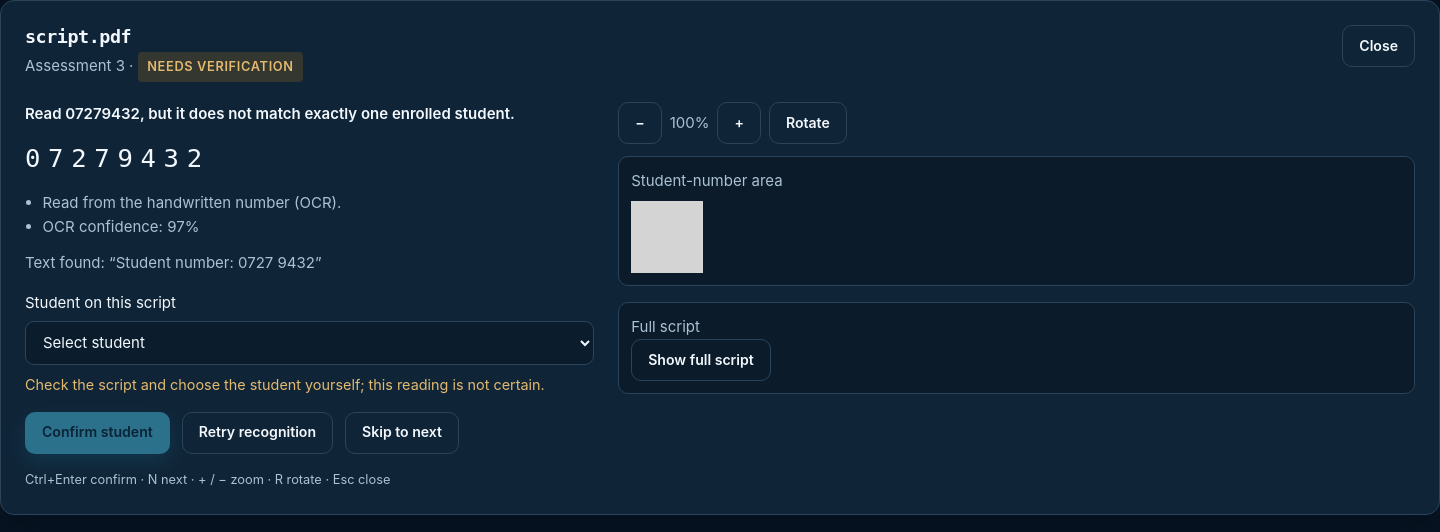
SubmissionReviewPanel › makes the lecturer choose when the reading is uncertain
Expected: the button with test id "confirm" is disabled, [25,412,170,454]
Select "35226455 — Sipho Test" in the dropdown with test id "student-select": (310, 343) [25,321,594,365]
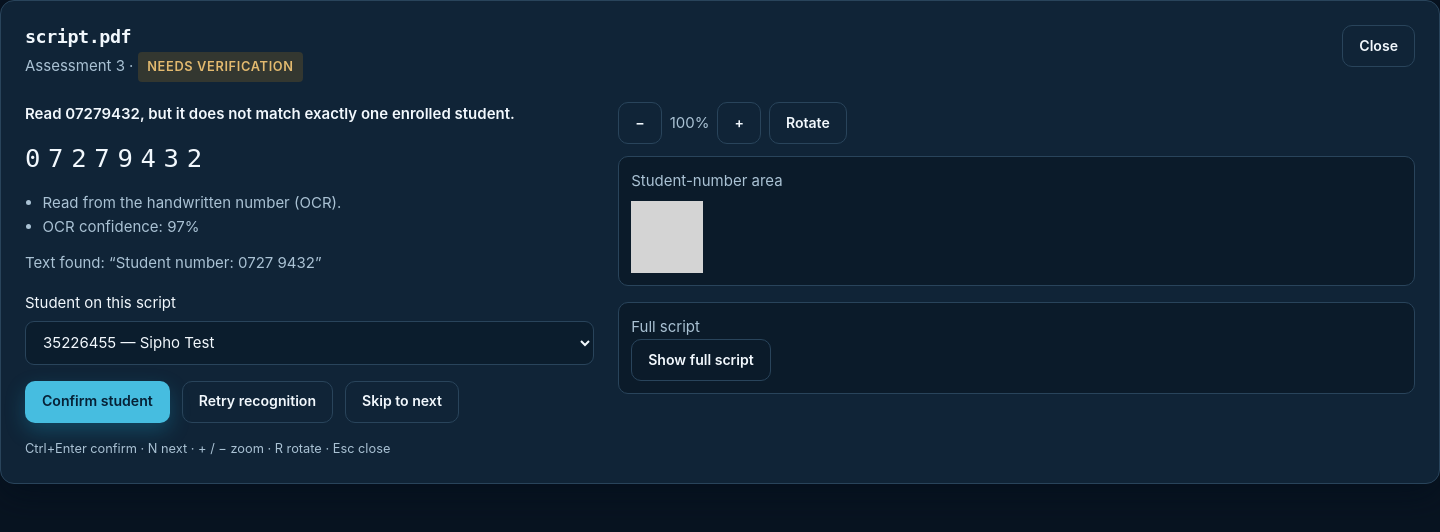
Expected: the button with test id "confirm" is enabled, [25,381,170,423]
